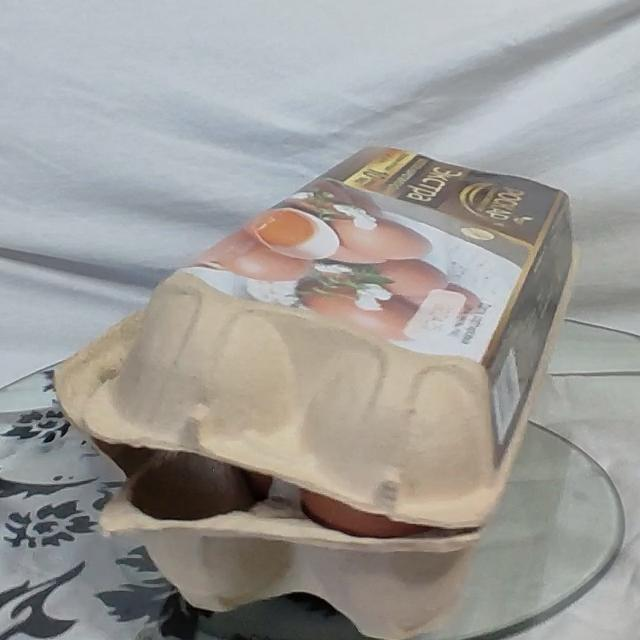egg: (118, 135, 612, 617)
